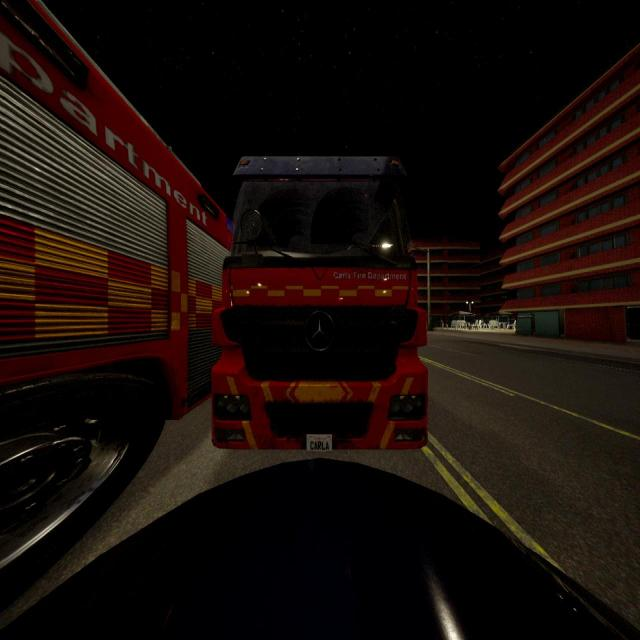Vehicle: (0, 0, 234, 603), (5, 462, 640, 639), (215, 160, 426, 446)
